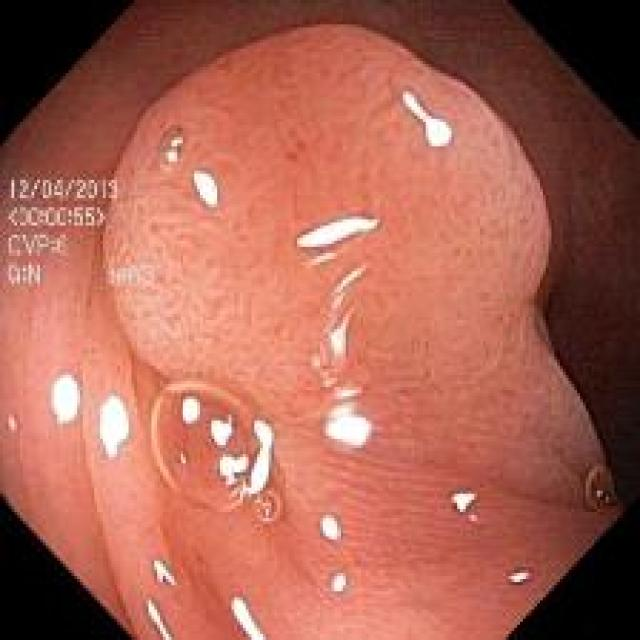Polyps: (104, 27, 602, 503)
